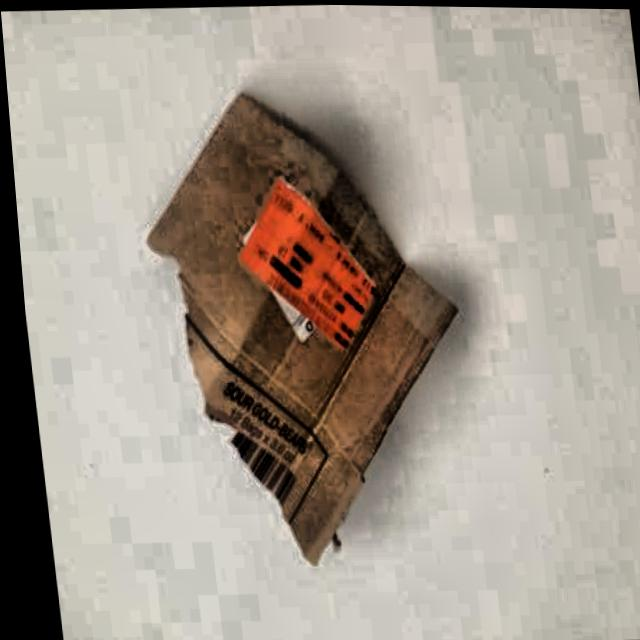Cardbox: (117, 64, 494, 581)
